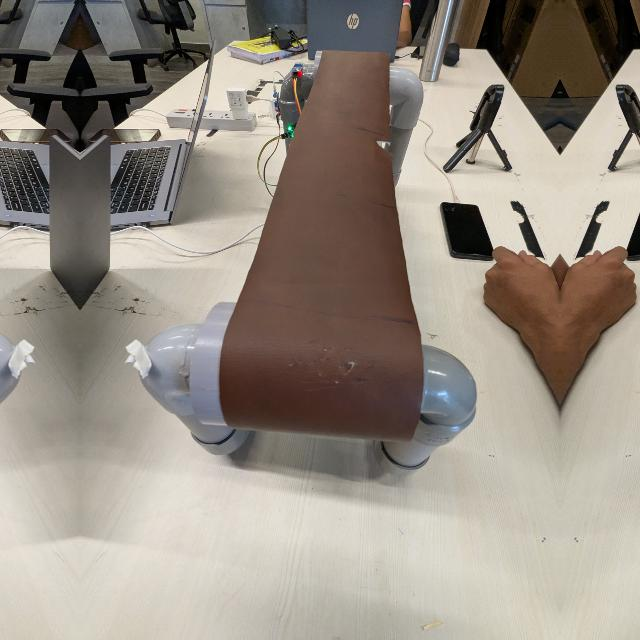belt_crack: (289, 342, 377, 393)
belt_tear: (369, 129, 394, 157)
